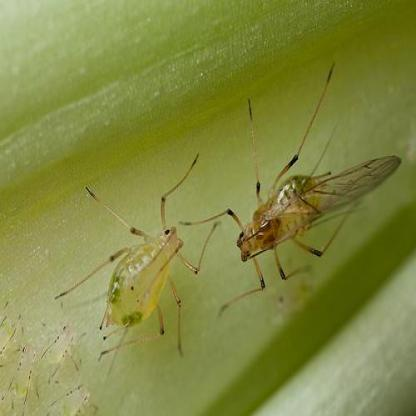aphid: (205, 96, 402, 298), (62, 177, 210, 375)
